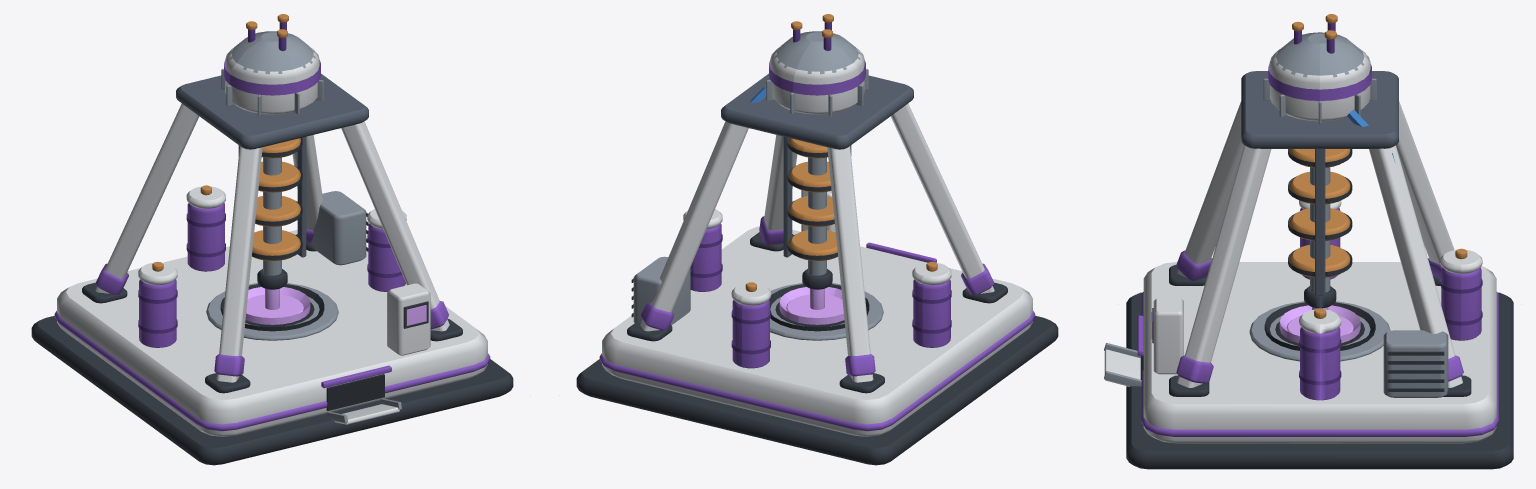
Rendered from foreuse_plasma.glb.
3 renders of one model, left to right at view 1: azimuth 30°, elevation 25°; view 2: azimuth 150°, elevation 25°; view 3: azimuth 270°, elevation 25°, orthographic. The views are drawn at different scales.
Parts seen in each view (by area): view 1: pieces_av_blanc.002, pieces_av_fonce.002, pieces_av_violet.002, pieces_av_gris.002, pieces_av_sombre.002, pieces_av_cuivre.002, pieces_av_grille.002, plasma_av_plasma.002, pieces_av_violet_fonce.002; view 2: pieces_av_blanc.002, pieces_av_fonce.002, pieces_av_violet.002, pieces_av_gris.002, pieces_av_sombre.002, pieces_av_cuivre.002, plasma_av_plasma.002, pieces_av_violet_fonce.002, pieces_av_grille.002; view 3: pieces_av_blanc.002, pieces_av_fonce.002, pieces_av_violet.002, pieces_av_gris.002, pieces_av_sombre.002, pieces_av_cuivre.002, pieces_av_grille.002, plasma_av_plasma.002, pieces_av_violet_fonce.002.
Part boxes in pixels (box(x1,y1,x2,y2)): pieces_av_blanc.002: box(57, 46, 487, 436); pieces_av_fonce.002: box(31, 137, 513, 465); pieces_av_violet.002: box(54, 60, 490, 431); pieces_av_gris.002: box(206, 31, 401, 422); pieces_av_sombre.002: box(176, 73, 368, 257); pieces_av_cuivre.002: box(152, 14, 300, 271); pieces_av_grille.002: box(220, 284, 384, 410); plasma_av_plasma.002: box(245, 287, 310, 324); pieces_av_violet_fonce.002: box(138, 22, 402, 333); pieces_av_blanc.002: box(602, 46, 1032, 436); pieces_av_fonce.002: box(576, 137, 1058, 465); pieces_av_violet.002: box(599, 60, 1035, 431); pieces_av_gris.002: box(633, 31, 883, 340); pieces_av_sombre.002: box(721, 73, 913, 257); pieces_av_cuivre.002: box(745, 14, 937, 291); plasma_av_plasma.002: box(779, 287, 844, 324); pieces_av_violet_fonce.002: box(690, 22, 951, 354); pieces_av_grille.002: box(769, 284, 869, 331); pieces_av_blanc.002: box(1104, 47, 1496, 443); pieces_av_fonce.002: box(1126, 149, 1513, 469); pieces_av_violet.002: box(1137, 64, 1498, 436); pieces_av_gris.002: box(1104, 32, 1448, 397); pieces_av_sombre.002: box(1241, 71, 1398, 295); pieces_av_cuivre.002: box(1290, 14, 1467, 318); pieces_av_grille.002: box(1141, 302, 1375, 379); plasma_av_plasma.002: box(1279, 305, 1360, 343); pieces_av_violet_fonce.002: box(1294, 23, 1482, 385).
Bounding box in the file's own units: 2 × 2 × 2.07.
